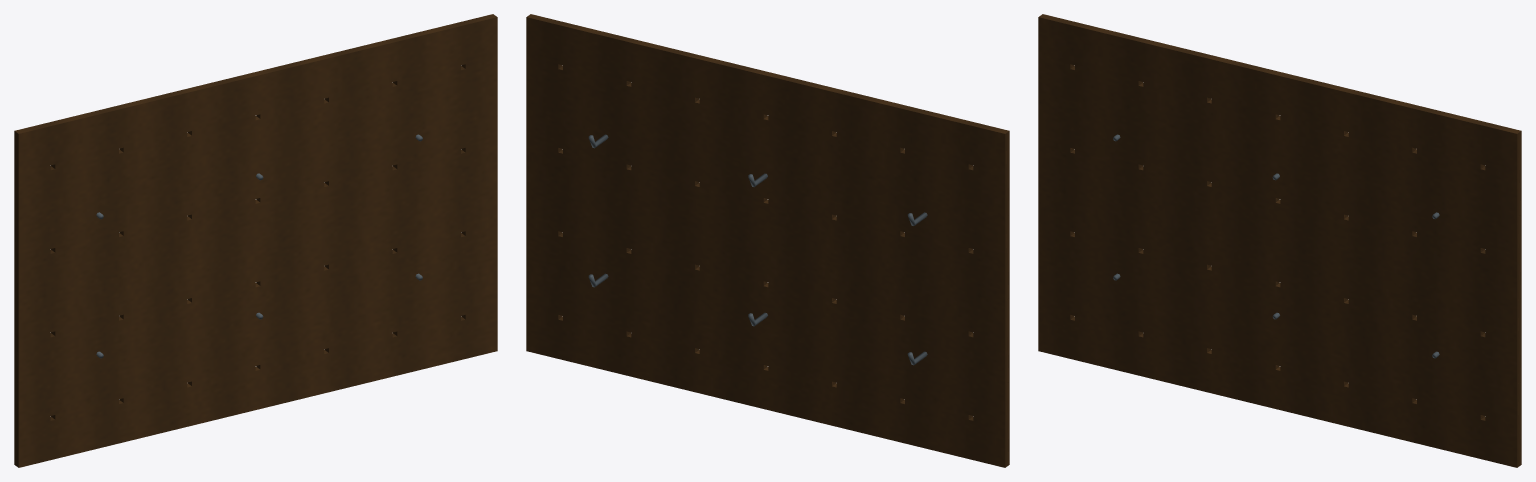
File: StoragePegboard.gltf
3 renders of one model, left to right at view 1: azimuth 30°, elevation 25°; view 2: azimuth 150°, elevation 25°; view 3: azimuth 330°, elevation 25°, orthographic.
Parts seen in each view (by area): view 1: StoragePegboard__Body; view 2: StoragePegboard__Body; view 3: StoragePegboard__Body.
Boxes of the visible parts, left/top/right/bottom form: StoragePegboard__Body: left=14, top=14, right=497, bottom=467; StoragePegboard__Body: left=526, top=14, right=1009, bottom=467; StoragePegboard__Body: left=1038, top=14, right=1521, bottom=467.
Bounding box in the file's own units: 1.26 × 0.84 × 0.1084.
1 material, 1 textured.
